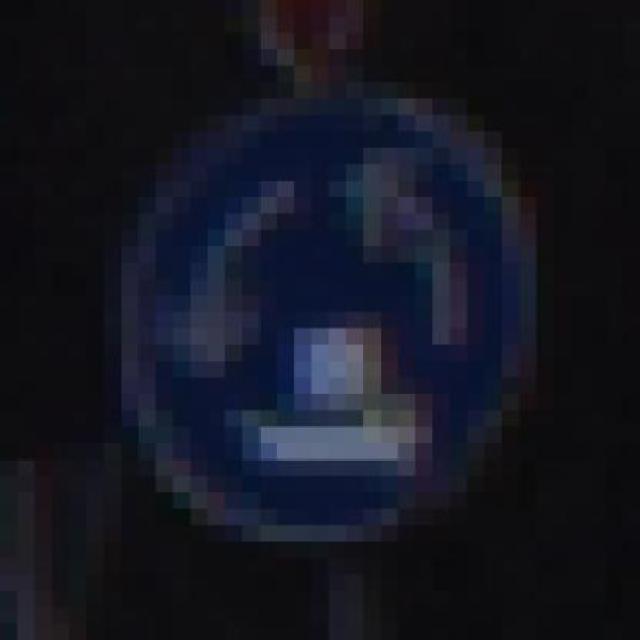Round-About: (69, 65, 606, 558)
